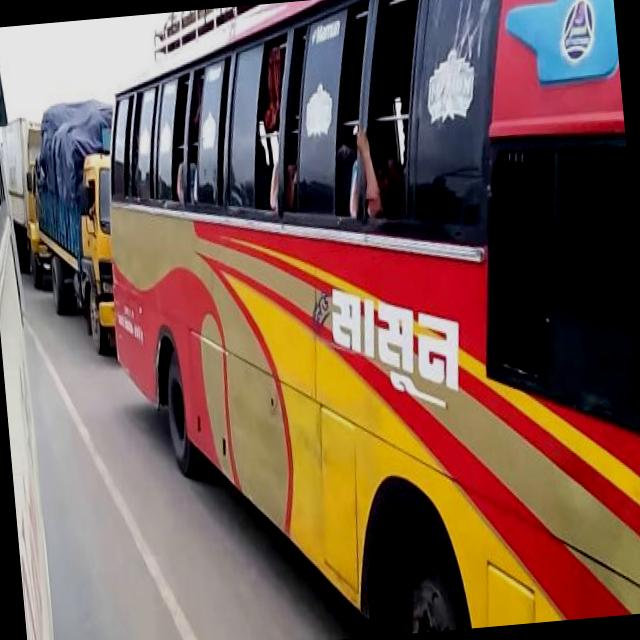bus: (85, 0, 640, 640)
truck: (24, 93, 136, 367), (0, 110, 54, 287)
